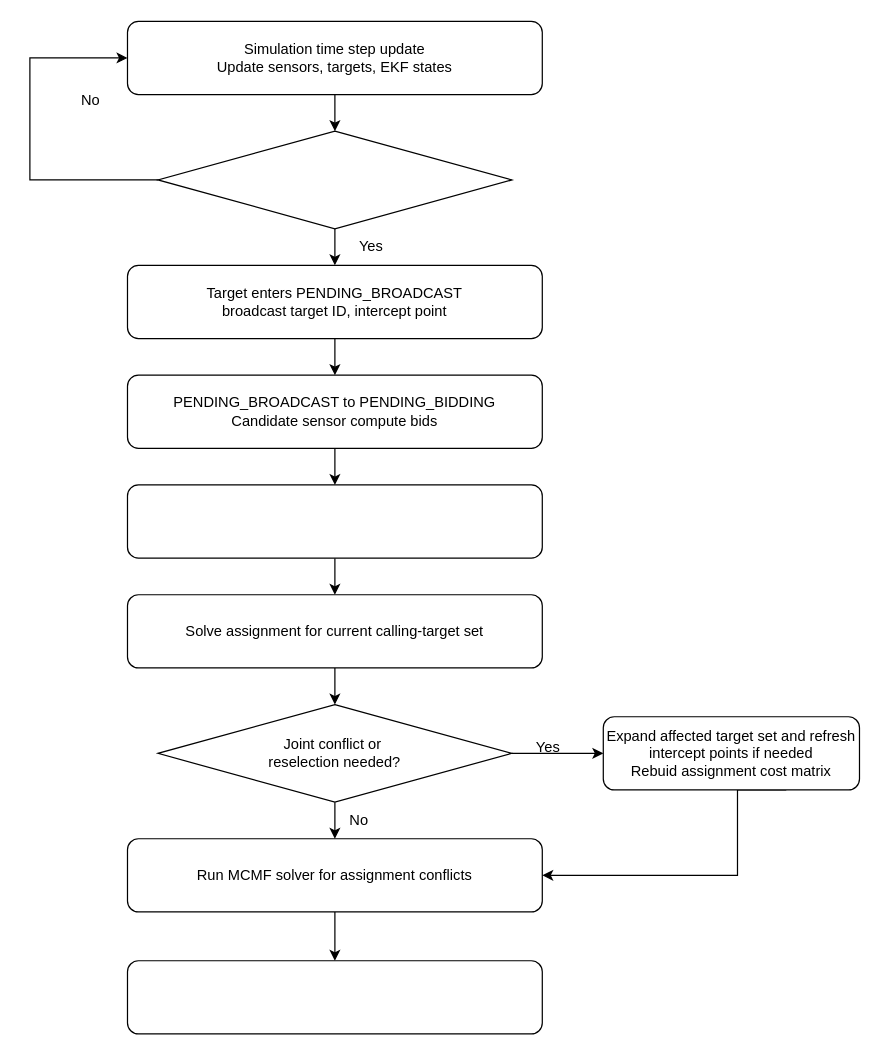
Some shapes in this 881 by 1055 pixel diagram are drawn without their labels. The centre of each missing label's shape, as x and y in pixels:
Broadcast results and update FSM Selected sensors transit to INTERCEPTING state: (334,997)
EKF converged and prediction stable ?: (334,179)
PENDING_BIDDING to PENDING_SELECTION Build initial assignment cost matrix: (334,521)
